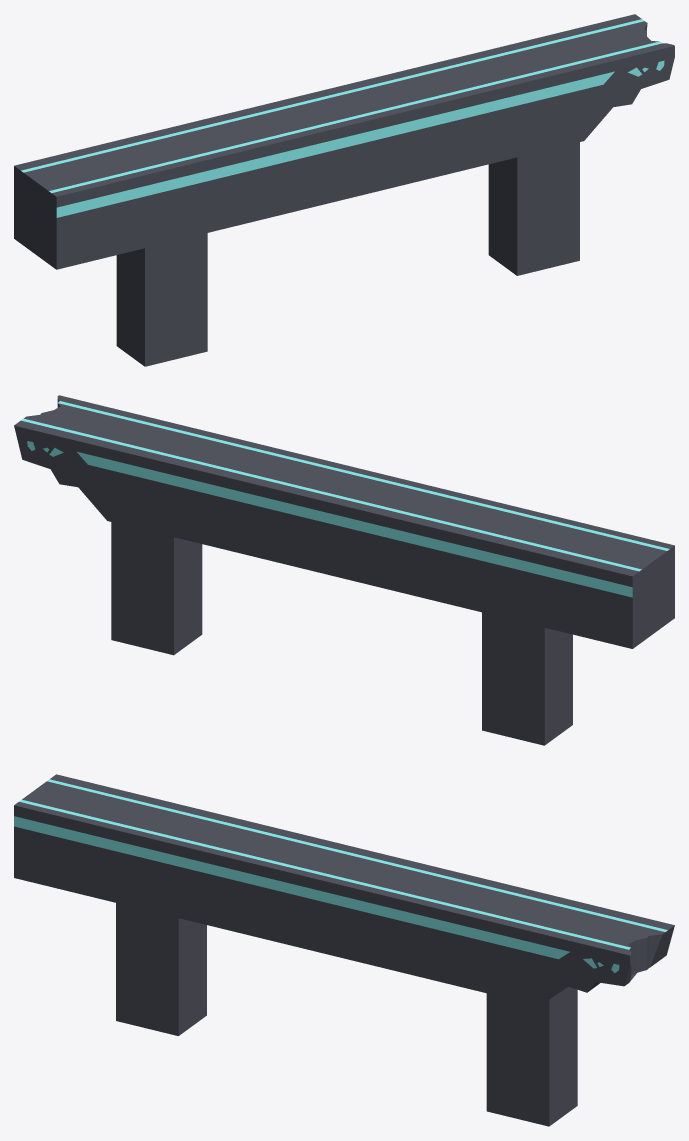
Rendered from PK_Bridge.fbx.
The picture shows the model from 3 angles, top to bottom: view 1: azimuth 30°, elevation 25°; view 2: azimuth 150°, elevation 25°; view 3: azimuth 330°, elevation 25°; orthographic projection.
Parts seen in each view (by area): view 1: PK_Bridge; view 2: PK_Bridge; view 3: PK_Bridge.
Part boxes in pixels (left/top/right/bottom): PK_Bridge: left=14, top=14, right=674, bottom=366; PK_Bridge: left=14, top=395, right=674, bottom=745; PK_Bridge: left=14, top=774, right=674, bottom=1126.
Bounding box in the file's own units: 1262 × 385 × 150.
